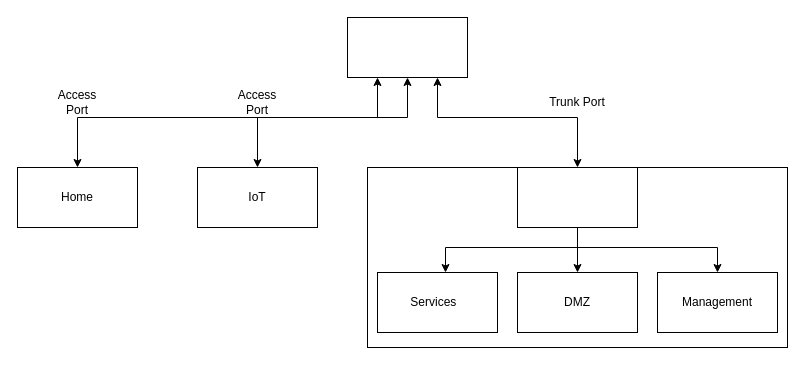
This 805x365 diagram has some shape labels left out. Here are the shapes that lost their labels. From the top down, the box of each, then its label:
(346, 16, 468, 78): L2 Switch
(516, 166, 638, 228): Virtualized L2
